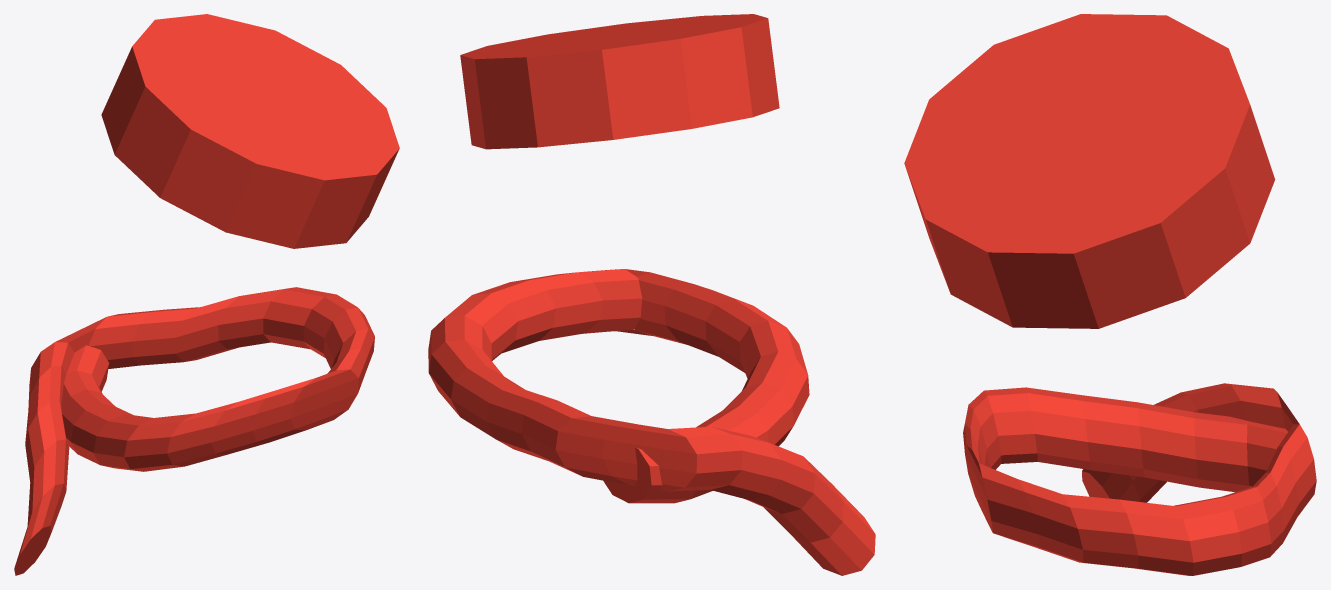
The model's file is scarf_only.glb.
3 renders of one model, left to right at view 1: azimuth 30°, elevation 25°; view 2: azimuth 150°, elevation 25°; view 3: azimuth 270°, elevation 25°, orthographic. The views are drawn at different scales.
Parts seen in each view (by area): view 1: scarf_only_from_snowman_scene; view 2: scarf_only_from_snowman_scene; view 3: scarf_only_from_snowman_scene.
Part boxes in pixels (x1=…): scarf_only_from_snowman_scene: x1=14, y1=14, x2=399, y2=575; scarf_only_from_snowman_scene: x1=428, y1=14, x2=875, y2=575; scarf_only_from_snowman_scene: x1=904, y1=14, x2=1316, y2=575.
Bounding box in the file's own units: 0.6399 × 0.7911 × 0.4976.
